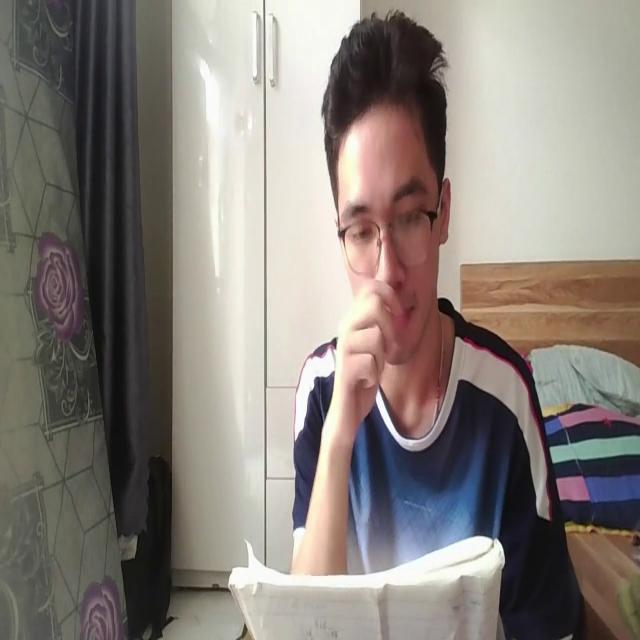book: (230, 530, 501, 640)
student: (288, 0, 582, 640)
